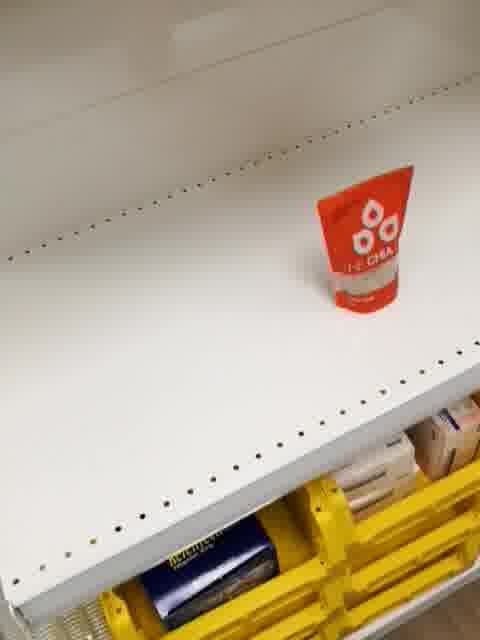whitechia: (315, 163, 420, 317)
